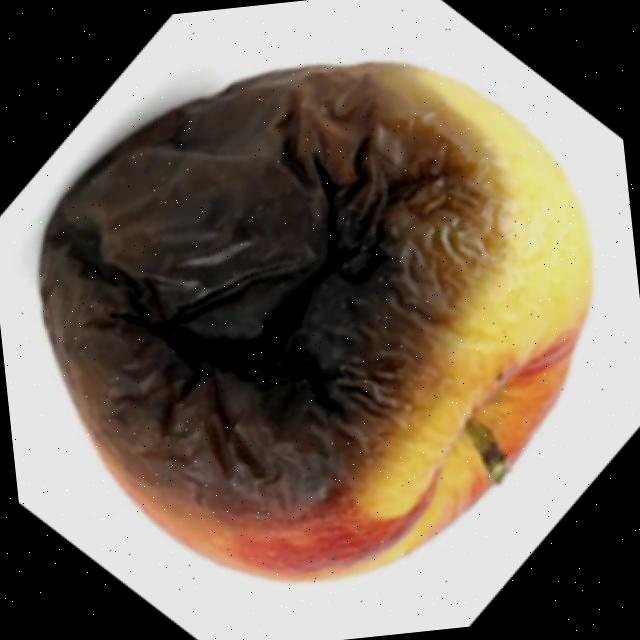Rotten: (14, 30, 628, 612)
